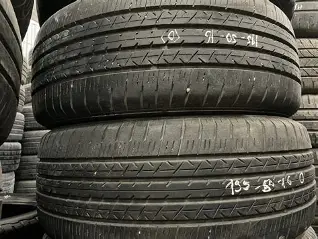ROAD_OBSTACLE: (35, 115, 315, 239), (30, 0, 300, 120)
